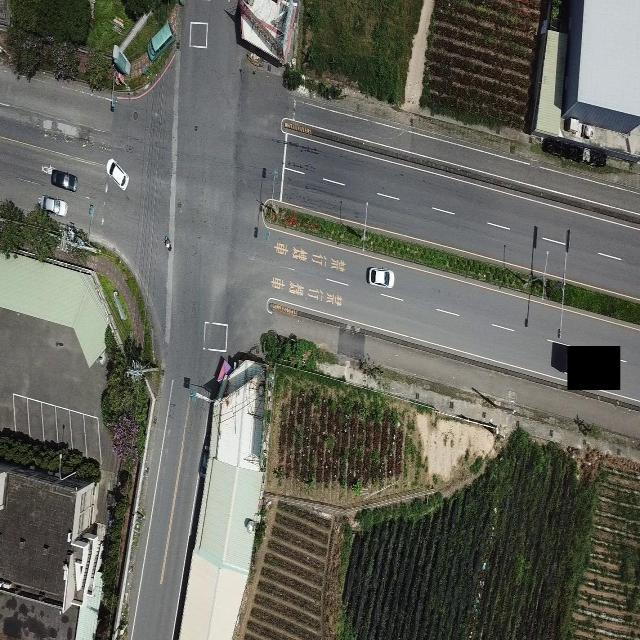car: (146, 20, 174, 63), (106, 157, 129, 191), (365, 265, 394, 289), (38, 195, 68, 217), (51, 168, 78, 192)
